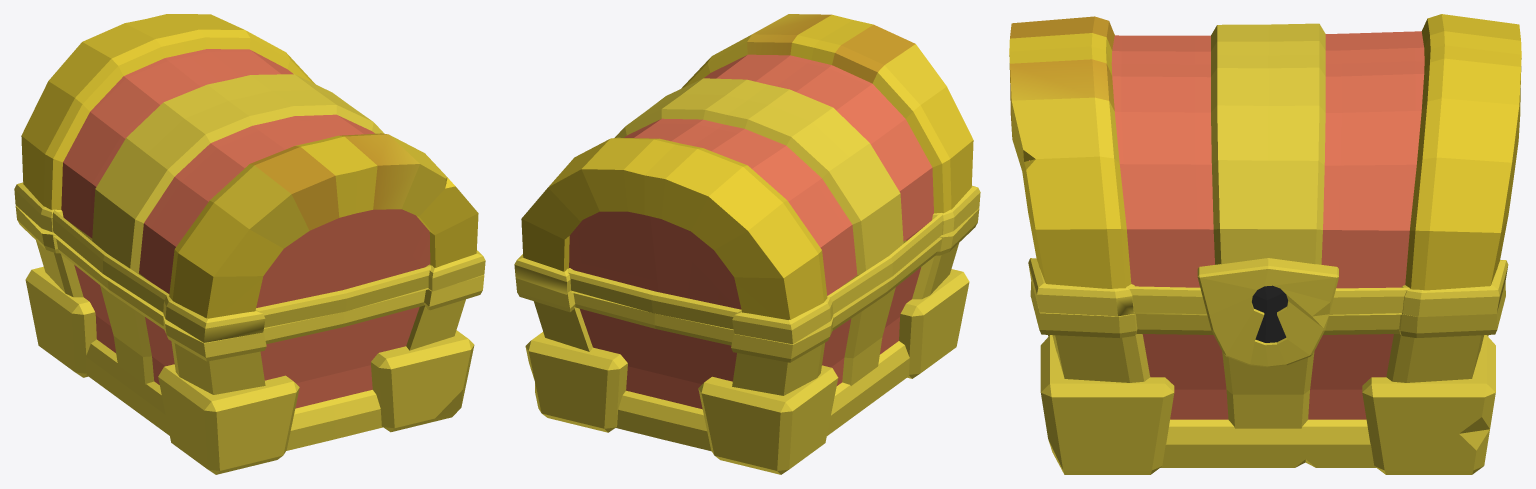
The model's file is coffre.glb.
The picture shows the model from 3 angles, left to right: view 1: azimuth 30°, elevation 25°; view 2: azimuth 150°, elevation 25°; view 3: azimuth 270°, elevation 25°; orthographic projection. The views are drawn at different scales.
Parts seen in each view (by area): view 1: chest_metall_0, chest_wood_0; view 2: chest_metall_0, chest_wood_0; view 3: chest_metall_0, chest_wood_0, chest_Material.001_0.
Part boxes in pixels (bbox=[...]): chest_metall_0: bbox=[14, 14, 485, 474]; chest_wood_0: bbox=[61, 49, 430, 408]; chest_metall_0: bbox=[514, 14, 980, 474]; chest_wood_0: bbox=[569, 54, 933, 409]; chest_metall_0: bbox=[1009, 14, 1521, 474]; chest_wood_0: bbox=[1029, 31, 1424, 419]; chest_Material.001_0: bbox=[1252, 285, 1287, 342].
Bounding box in the file's own units: 1.96 × 1.86 × 2.39.
